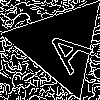A: (35, 19, 94, 76)
